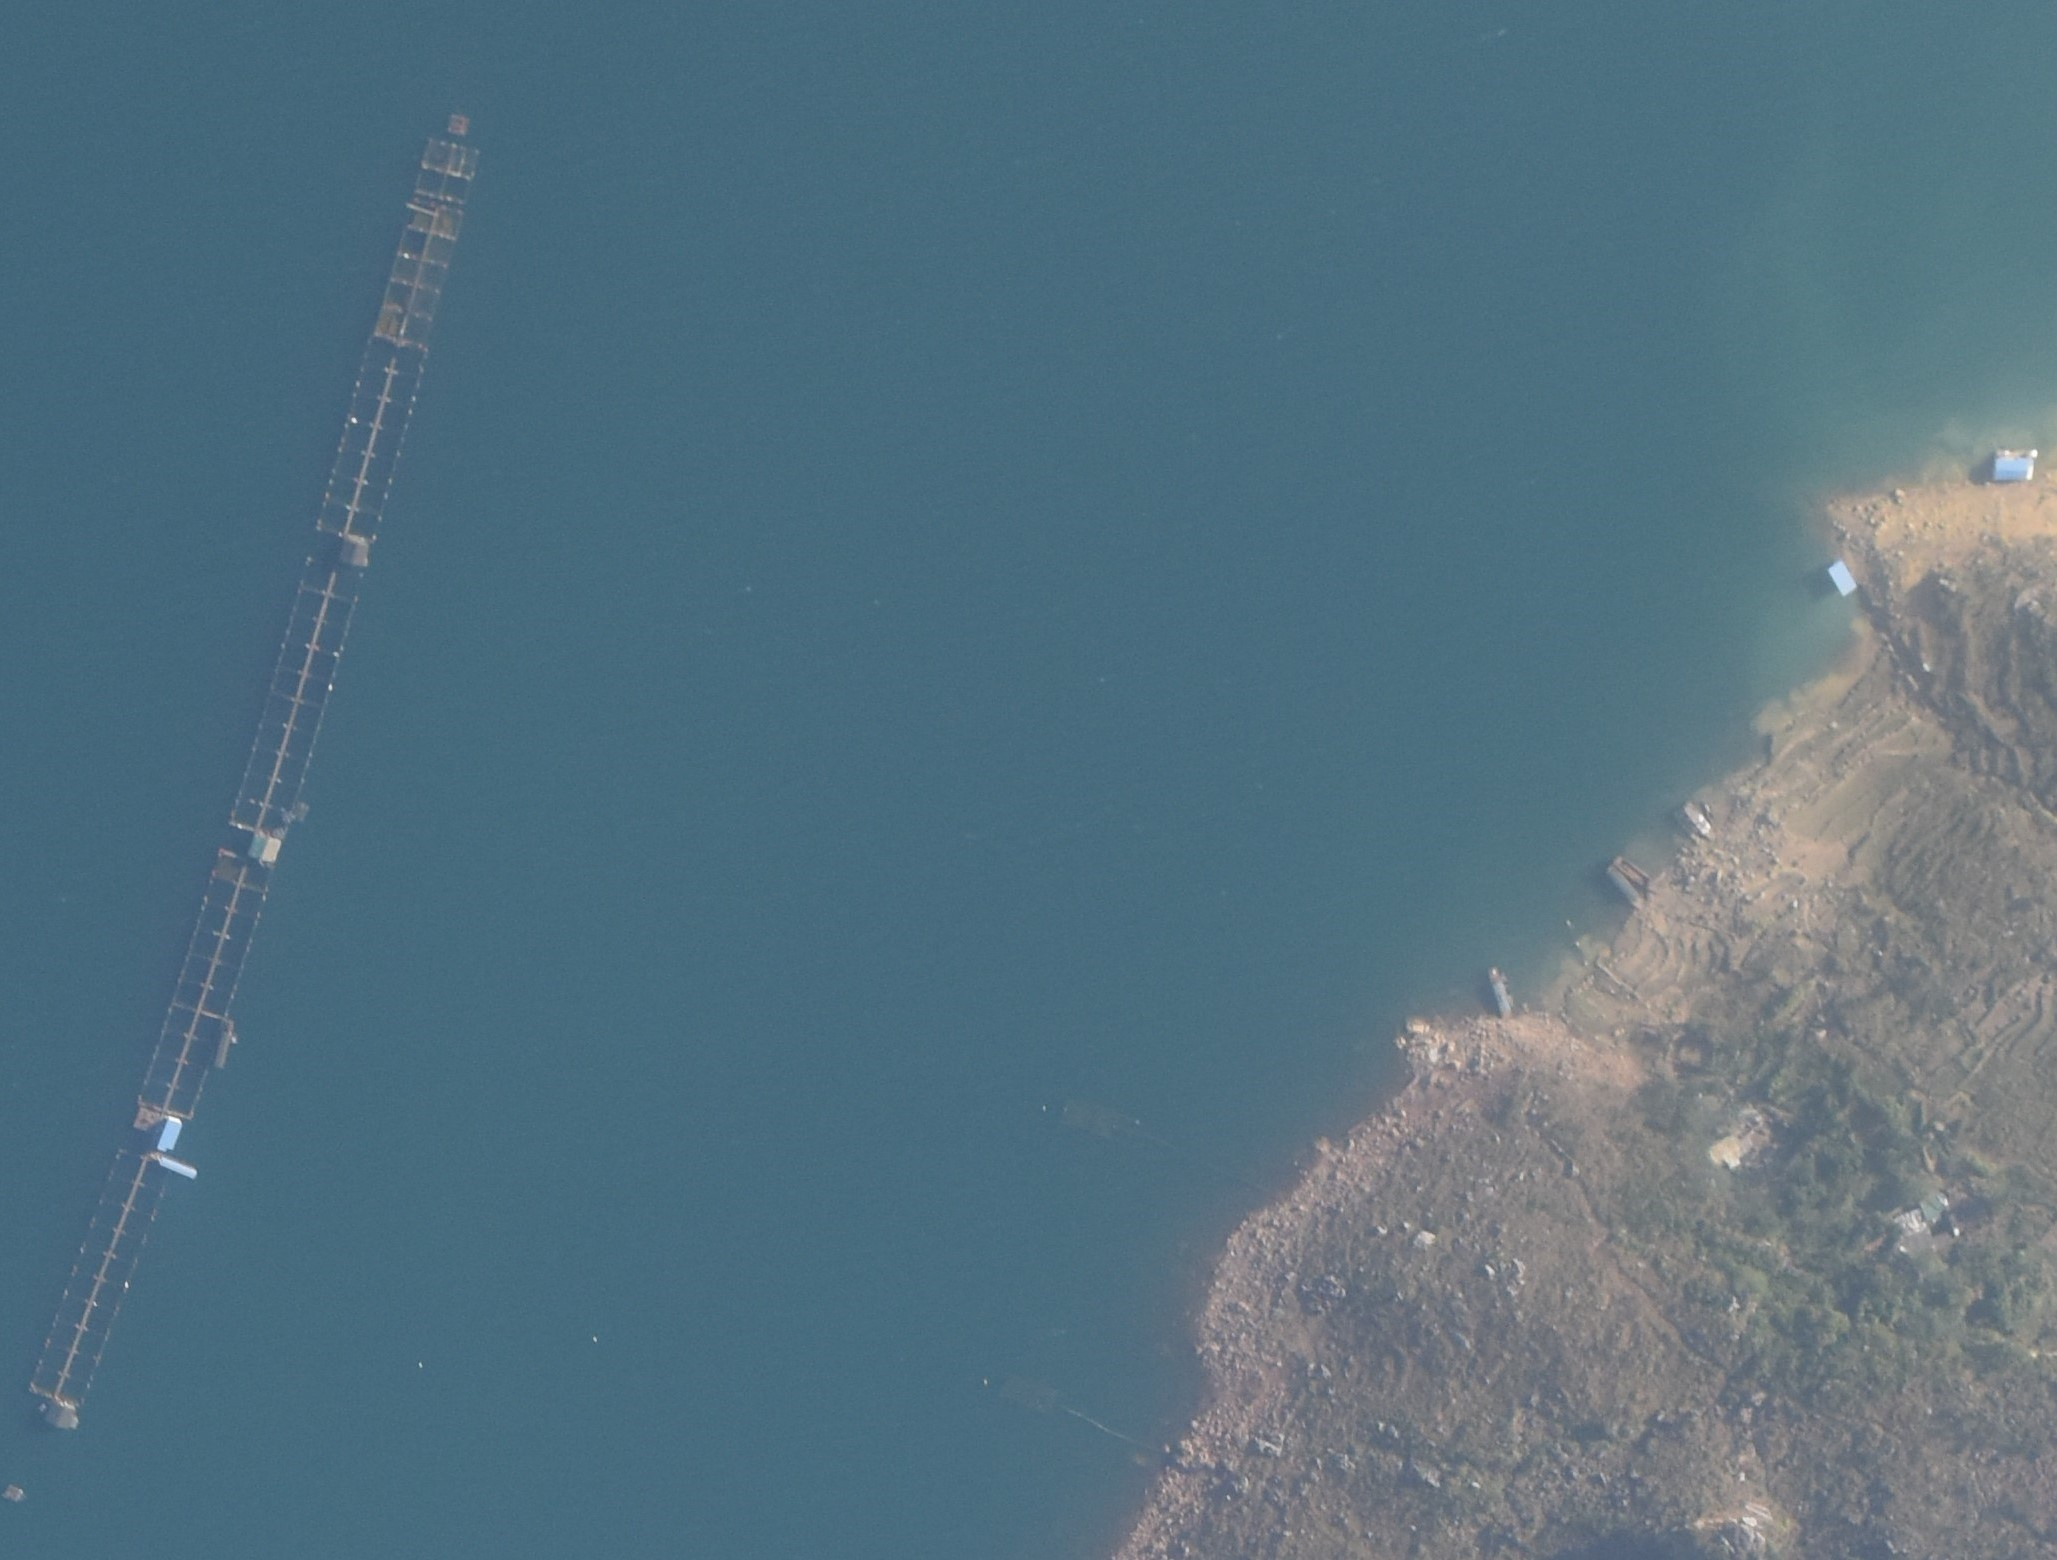building: (1896, 1191, 1954, 1252), (1706, 1122, 1772, 1172)
cultivation-mesh-cage: (310, 133, 502, 560), (30, 1100, 187, 1411), (229, 534, 369, 837), (138, 847, 280, 1118)
prefabricated-house: (338, 529, 372, 569), (1991, 449, 2034, 480), (156, 1154, 198, 1183), (247, 832, 284, 865), (1828, 560, 1860, 596), (44, 1399, 79, 1431), (157, 1114, 182, 1154), (447, 113, 469, 136)
ship: (1616, 852, 1659, 896), (1606, 864, 1646, 909), (1487, 962, 1516, 1019), (1677, 800, 1713, 841)
